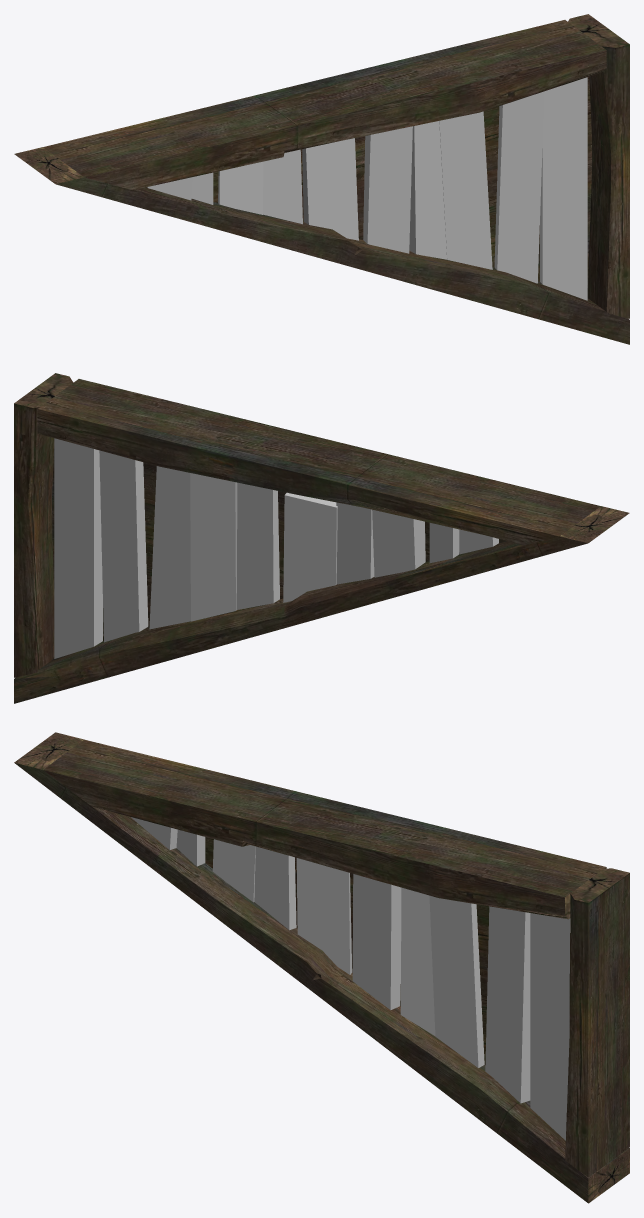
3 views of the same model, one above another, from view 1: azimuth 30°, elevation 25°; view 2: azimuth 150°, elevation 25°; view 3: azimuth 330°, elevation 25° (orthographic).
Parts seen in each view (by area): view 1: SM_BB_T1_Wall_Slanted_Shallow_Large_Inverted_LOD0; view 2: SM_BB_T1_Wall_Slanted_Shallow_Large_Inverted_LOD0; view 3: SM_BB_T1_Wall_Slanted_Shallow_Large_Inverted_LOD0.
Boxes of the visible parts, x1=… form: SM_BB_T1_Wall_Slanted_Shallow_Large_Inverted_LOD0: x1=14, y1=14, x2=629, y2=344; SM_BB_T1_Wall_Slanted_Shallow_Large_Inverted_LOD0: x1=14, y1=373, x2=629, y2=703; SM_BB_T1_Wall_Slanted_Shallow_Large_Inverted_LOD0: x1=14, y1=732, x2=629, y2=1203.
Size of the model in its own units: 3 by 1.5 by 0.3751.
